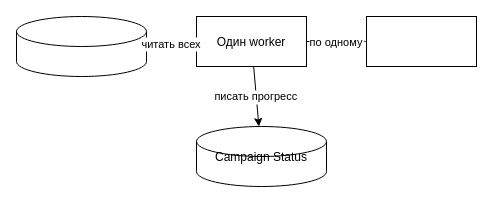
The diagram is 493 pixels wide and 203 high, and some of its shapes have lost their labels. Each missing label, with the centre of its shape:
"SQL получателей" belongs at (x=81, y=46).
"Провайдер" belongs at (x=421, y=41).
